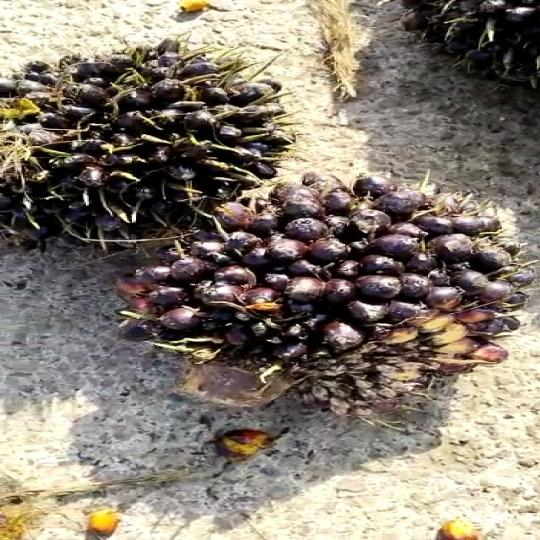mentah: (164, 160, 529, 426), (0, 23, 293, 244)
